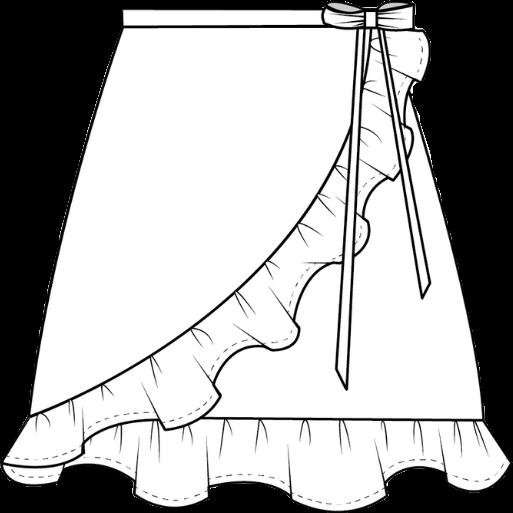Hemline: (0, 27, 430, 466), (3, 457, 512, 512), (39, 408, 485, 423)
Waistline: (28, 29, 373, 417), (122, 2, 414, 14), (121, 22, 413, 31)
